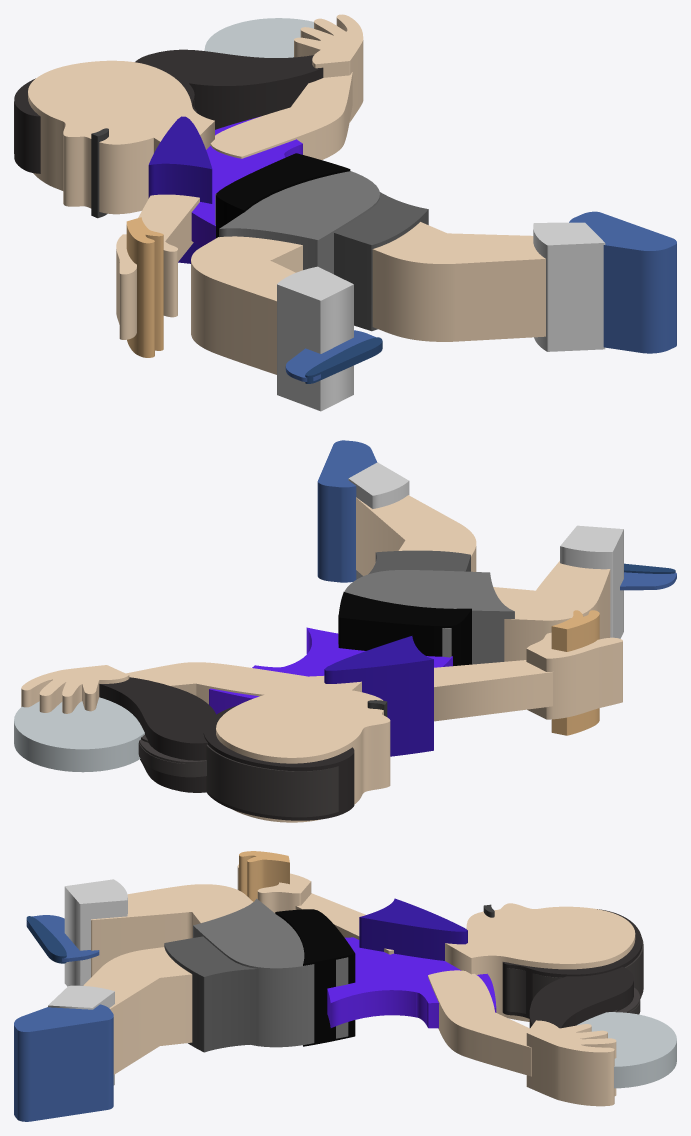
Rendered from emoji_u1f93e_1f3fb_200d_2640.glb.
The picture shows the model from 3 angles, top to bottom: view 1: azimuth 30°, elevation 25°; view 2: azimuth 150°, elevation 25°; view 3: azimuth 270°, elevation 25°; orthographic projection. The views are drawn at different scales.
Parts seen in each view (by area): view 1: emoji_u1f93e_1f3fb_200d_2640; view 2: emoji_u1f93e_1f3fb_200d_2640; view 3: emoji_u1f93e_1f3fb_200d_2640.
Part boxes in pixels (bbox=[...]): emoji_u1f93e_1f3fb_200d_2640: bbox=[14, 14, 676, 411]; emoji_u1f93e_1f3fb_200d_2640: bbox=[14, 440, 676, 822]; emoji_u1f93e_1f3fb_200d_2640: bbox=[14, 851, 676, 1121].
Size of the model in its own units: 0.0224 by 0.0056 by 0.0335.
